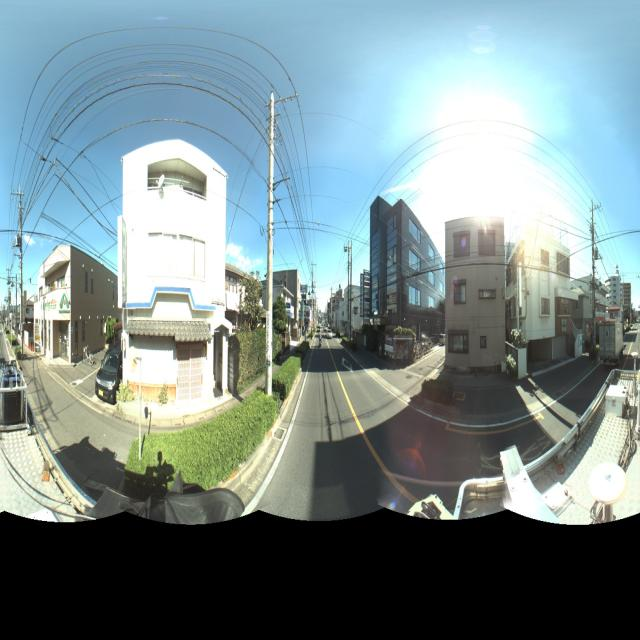b_1: (120, 136, 226, 406), (31, 238, 124, 373), (373, 189, 443, 365), (446, 208, 506, 379), (507, 231, 573, 362), (271, 263, 302, 325), (607, 264, 633, 332), (351, 278, 375, 346)
b_2: (226, 264, 283, 396)
